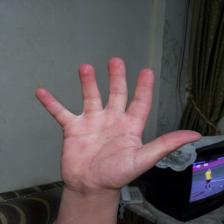five: (37, 56, 202, 189)
